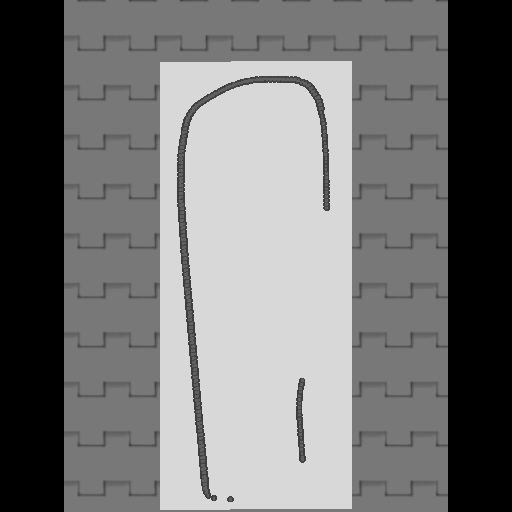Defect: (300, 209, 330, 383)
